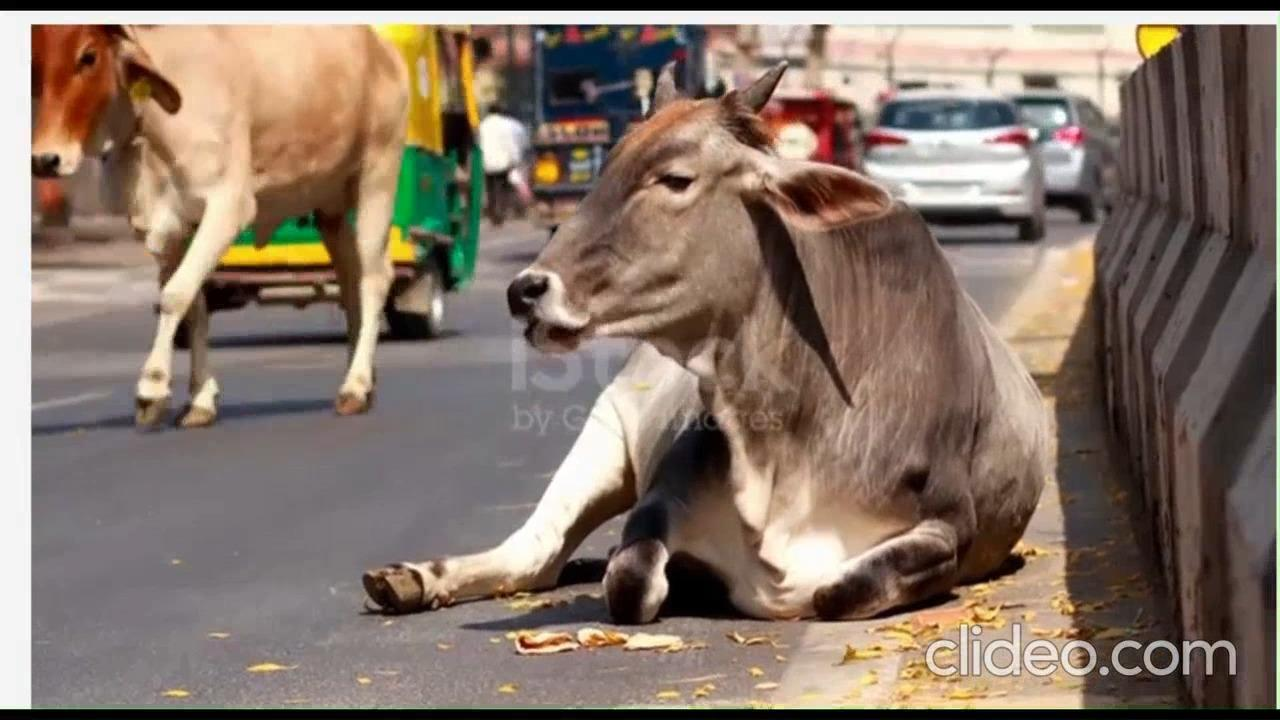Cow: (376, 54, 1064, 605), (37, 27, 414, 421)
